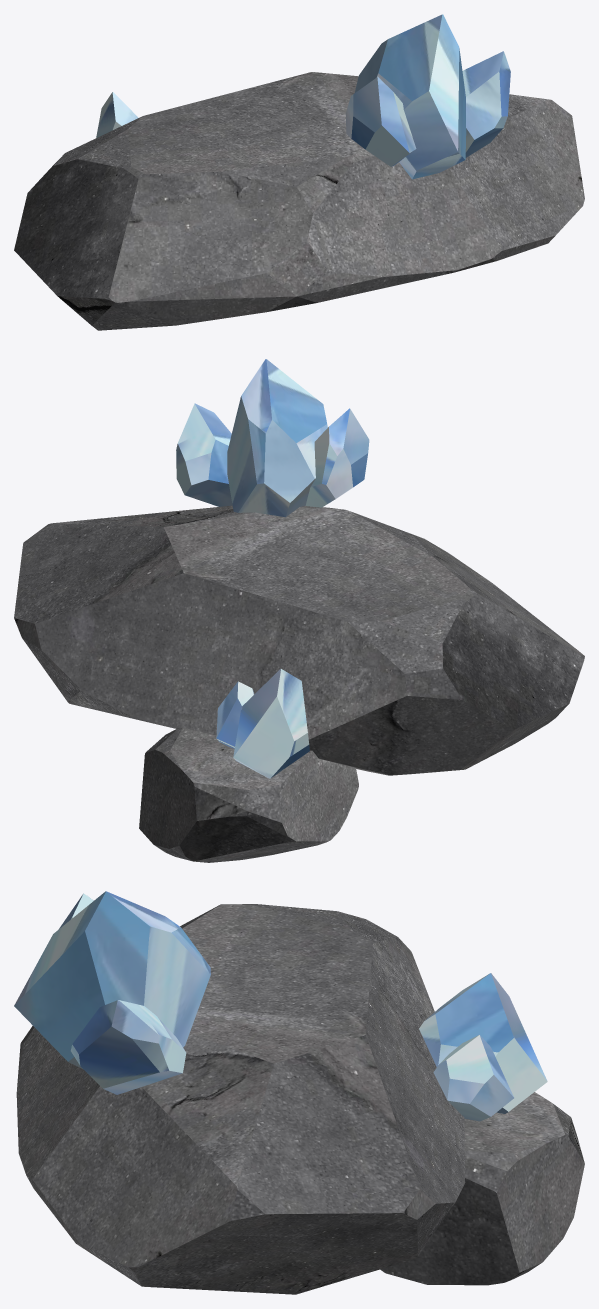
File: Time Time cristal.fbx
3 views of the same model, one above another, from view 1: azimuth 30°, elevation 25°; view 2: azimuth 150°, elevation 25°; view 3: azimuth 270°, elevation 25° (orthographic). The views are drawn at different scales.
Parts seen in each view (by area): view 1: Icosphere.008, Icosphere.010; view 2: Icosphere.008, Icosphere.010; view 3: Icosphere.008, Icosphere.010.
Boxes of the visible parts, box(x1,y1,x2,y2) form: Icosphere.008: box(14, 72, 584, 330); Icosphere.010: box(96, 14, 510, 179); Icosphere.008: box(14, 505, 584, 862); Icosphere.010: box(176, 359, 369, 778); Icosphere.008: box(16, 904, 584, 1294); Icosphere.010: box(14, 891, 547, 1121).
Size of the model in its own units: 262 by 171 by 202.
